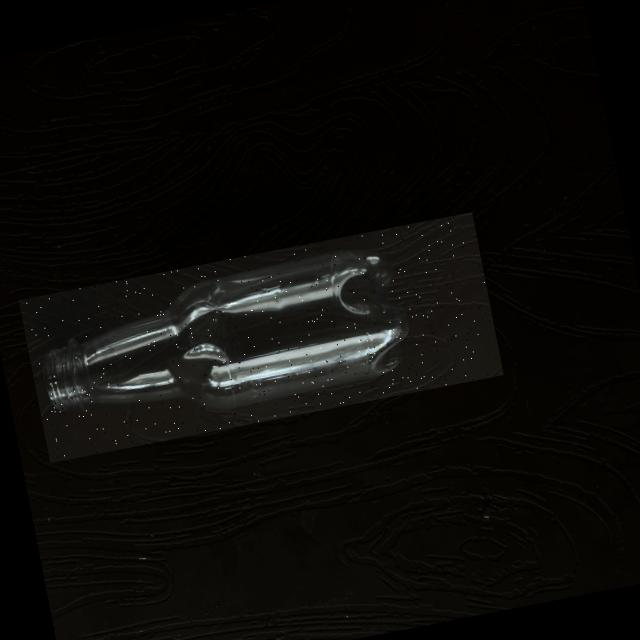PET_ClearBottle: (18, 211, 503, 462)
